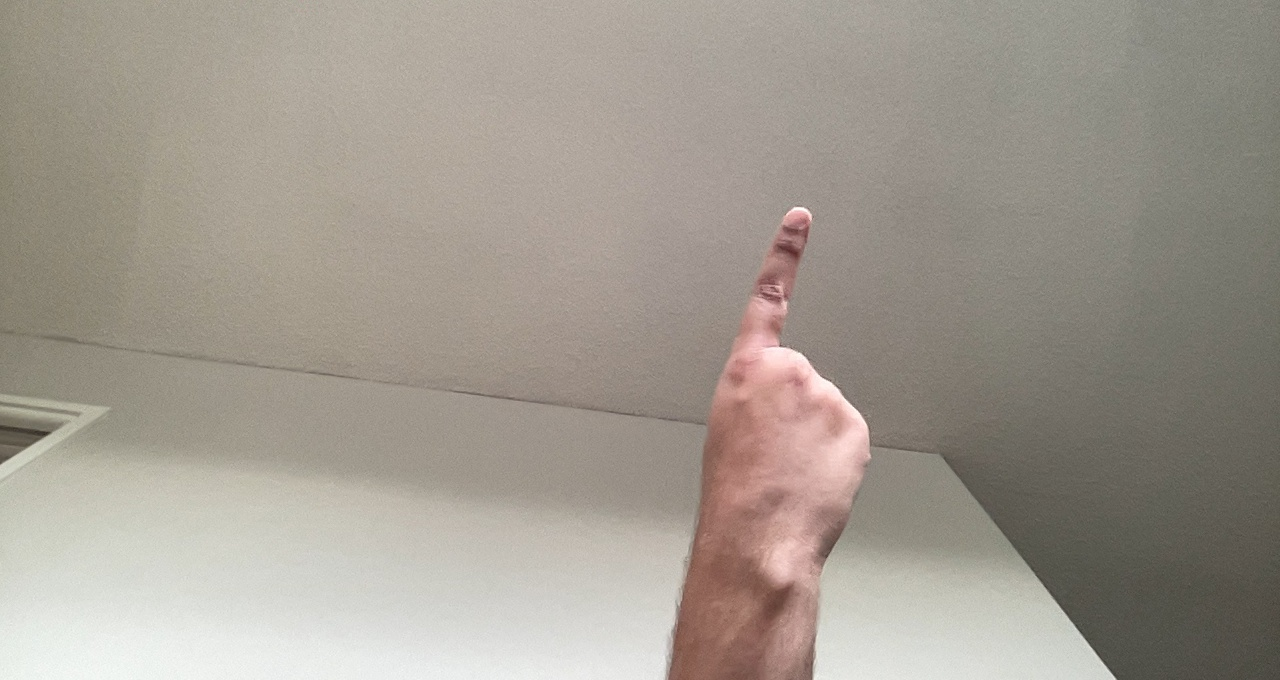fingerup: (699, 193, 868, 617)
